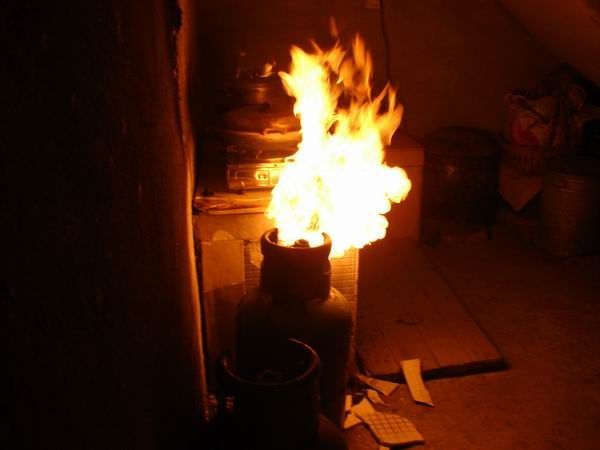fire: (269, 31, 412, 251)
